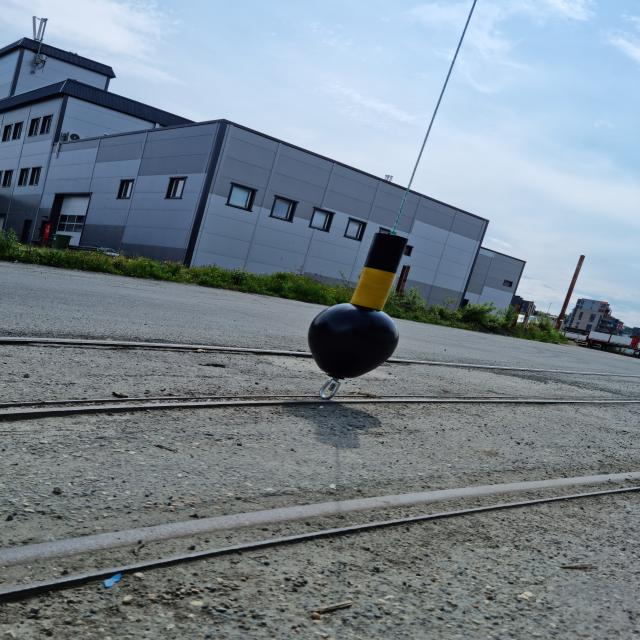east: (308, 231, 410, 379)
